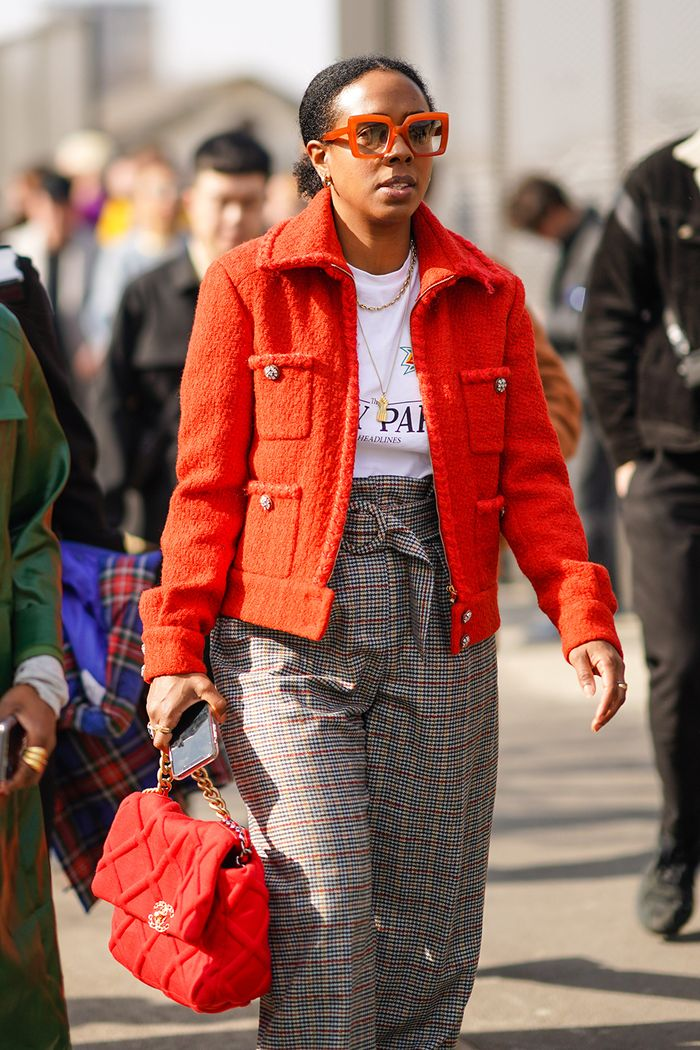channel: (80, 759, 291, 1019), (124, 898, 190, 952)
